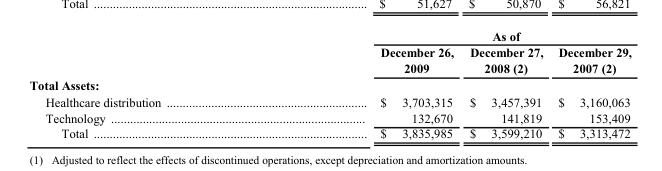table: (28, 28, 630, 140)
table column: (28, 28, 270, 140), (270, 28, 461, 140), (461, 28, 550, 140), (550, 28, 630, 140)
table column header: (28, 28, 630, 76)
table projected row header: (28, 76, 630, 93)
table row: (28, 43, 630, 76), (28, 76, 630, 93), (28, 93, 630, 109), (28, 109, 630, 125), (28, 28, 630, 43), (28, 125, 630, 140)
table spanning cell: (270, 28, 630, 43)
